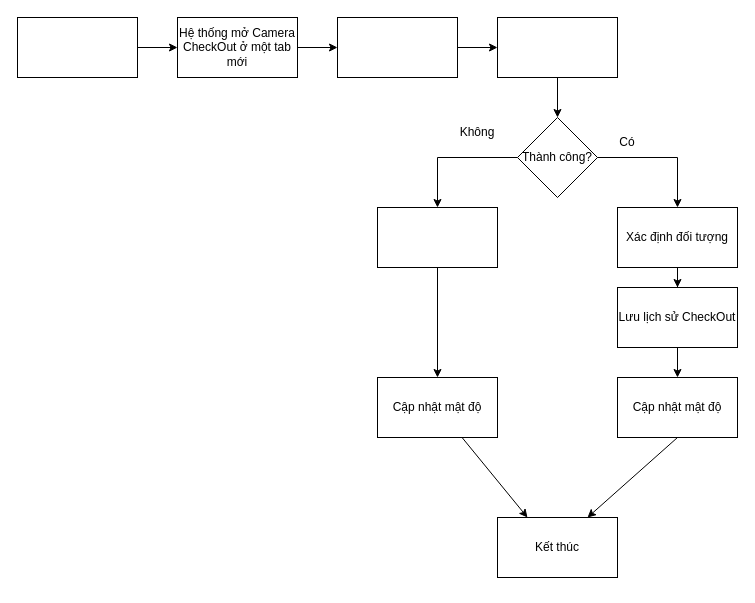
This 755x603 diagram has some shape labels left out. Here are the shapes that lost their labels. From the top down, the centre of each, then its label:
At point 77,47: "Cashier truy cập chức năng nhận diện".
At point 397,47: "Camera phát hiện khuôn mặt".
At point 557,47: "Hệ thống nhân diện Faceid".
At point 437,237: "Thu ngân mở cừa từ xa".
